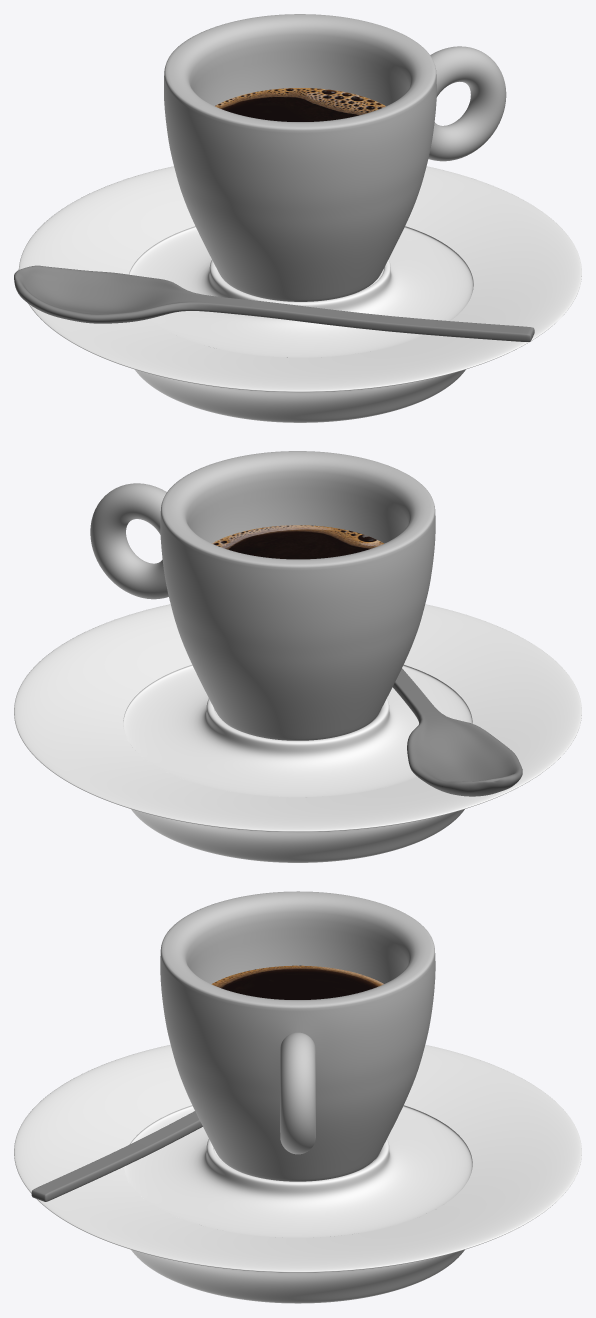
3 views of the same model, one above another, from view 1: azimuth 30°, elevation 25°; view 2: azimuth 150°, elevation 25°; view 3: azimuth 270°, elevation 25° (orthographic).
Visible parts, largest first — view 1: plate, coffee-mug, Plane, coffee; view 2: plate, coffee-mug, Plane, coffee; view 3: plate, coffee-mug, coffee, Plane.
Part boxes in pixels (x1,y1,x2,y2): plate: [18, 166, 581, 422]; coffee-mug: [164, 14, 506, 301]; Plane: [14, 265, 534, 341]; coffee: [215, 88, 385, 121]; plate: [14, 604, 581, 862]; coffee-mug: [90, 451, 435, 740]; Plane: [393, 668, 522, 796]; coffee: [212, 525, 383, 559]; plate: [14, 1044, 581, 1303]; coffee-mug: [160, 891, 435, 1181]; coffee: [211, 965, 383, 999]; Plane: [31, 1111, 202, 1201].
Bounding box in the file's own units: 0.2397 × 0.131 × 0.2376.
